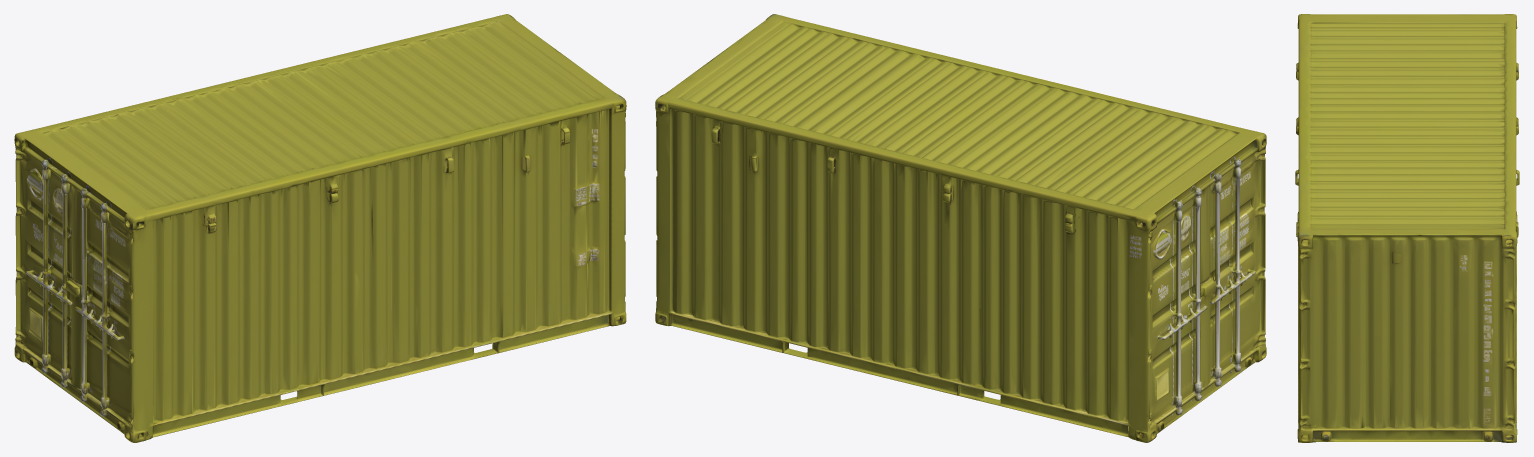
Rendered from container-yellow-1.glb.
The picture shows the model from 3 angles, left to right: view 1: azimuth 30°, elevation 25°; view 2: azimuth 150°, elevation 25°; view 3: azimuth 270°, elevation 25°; orthographic projection. The views are drawn at different scales.
Parts seen in each view (by area): view 1: node_0; view 2: node_0; view 3: node_0.
Part boxes in pixels (x1,y1,x2,y2): node_0: [14, 14, 626, 442]; node_0: [655, 14, 1266, 442]; node_0: [1295, 14, 1519, 442].
Size of the model in its own units: 1.04 by 0.4478 by 0.4384.
1 material, 1 textured.
